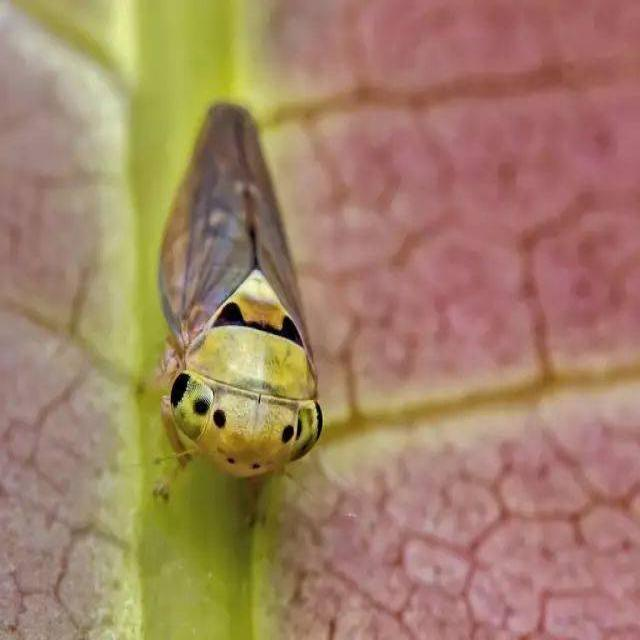Yechan: (139, 87, 338, 529)
